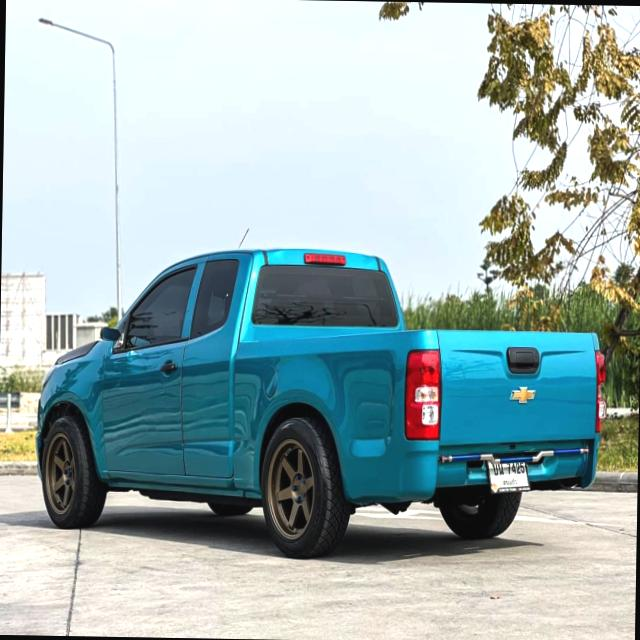license_plate: (484, 457, 533, 496)
